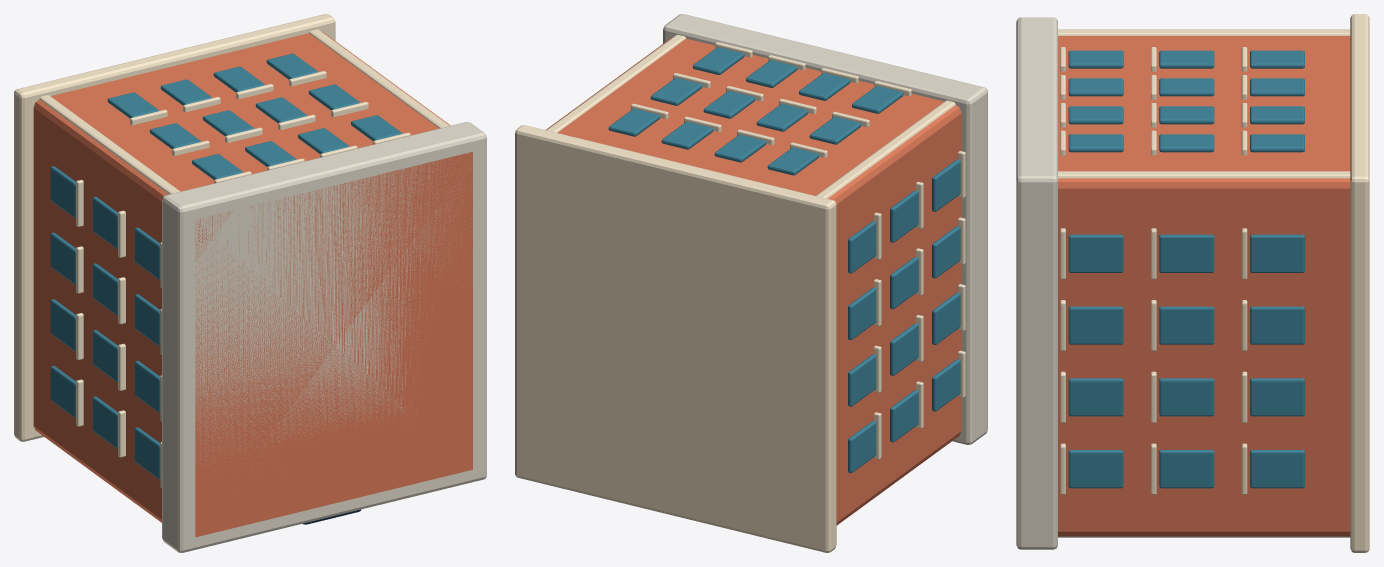
Rendered from CR_CampusBuilding_A.fbx.
3 views of the same model, side by side, from view 1: azimuth 30°, elevation 25°; view 2: azimuth 150°, elevation 25°; view 3: azimuth 270°, elevation 25° (orthographic). The views are drawn at different scales.
Visible parts, largest first — view 1: Brick_Main, Cream_Base, Cream_Cornice, Cream_Corner, Cream_Corner.001, Glass_SideWindow_-3.355_0_0, Glass_SideWindow_-3.355_0_2, Glass_SideWindow_-3.355_0_3, Glass_SideWindow_-3.355_0_1, Glass_SideWindow_-3.355_1_1, Glass_SideWindow_-3.355_2_1, Glass_SideWindow_-3.355_2_3 (+17 smaller); view 2: Cream_Cornice, Brick_Main, Cream_Base, Cream_Corner, Cream_Corner.001, Glass_SideWindow_-3.355_1_3, Glass_SideWindow_-3.355_1_1, Glass_SideWindow_-3.355_0_0, Glass_SideWindow_-3.355_0_2, Glass_SideWindow_-3.355_0_3, Glass_SideWindow_-3.355_2_1, Glass_SideWindow_-3.355_0_1 (+17 smaller); view 3: Brick_Main, Cream_Base, Cream_Cornice, Cream_Corner.001, Glass_SideWindow_3.355_0_2, Glass_SideWindow_3.355_0_1, Glass_SideWindow_3.355_1_1, Glass_SideWindow_3.355_1_2, Glass_SideWindow_3.355_0_0, Glass_SideWindow_3.355_0_3, Glass_SideWindow_3.355_1_3, Glass_SideWindow_3.355_1_0 (+17 smaller).
Boxes of the visible parts, x1,y1,x2,y2 form: Brick_Main: [33, 31, 472, 537]; Cream_Base: [162, 122, 486, 552]; Cream_Cornice: [14, 14, 335, 441]; Cream_Corner: [39, 95, 180, 194]; Cream_Corner.001: [309, 29, 449, 128]; Glass_SideWindow_-3.355_0_0: [134, 427, 160, 479]; Glass_SideWindow_-3.355_0_2: [134, 294, 160, 346]; Glass_SideWindow_-3.355_0_3: [134, 227, 160, 279]; Glass_SideWindow_-3.355_0_1: [134, 360, 160, 412]; Glass_SideWindow_-3.355_1_1: [92, 330, 117, 382]; Glass_SideWindow_-3.355_2_1: [50, 299, 75, 351]; Glass_SideWindow_-3.355_2_3: [50, 166, 75, 218]; Cream_Cornice: [515, 125, 836, 552]; Brick_Main: [546, 37, 961, 525]; Cream_Base: [663, 14, 987, 444]; Cream_Corner: [816, 100, 955, 198]; Cream_Corner.001: [546, 34, 685, 132]; Glass_SideWindow_-3.355_1_3: [890, 190, 918, 242]; Glass_SideWindow_-3.355_1_1: [890, 323, 918, 375]; Glass_SideWindow_-3.355_0_0: [932, 359, 960, 411]; Glass_SideWindow_-3.355_0_2: [932, 226, 960, 278]; Glass_SideWindow_-3.355_0_3: [932, 159, 960, 211]; Glass_SideWindow_-3.355_2_1: [848, 354, 876, 406]; Glass_SideWindow_-3.355_0_1: [932, 292, 960, 344]; Brick_Main: [1058, 36, 1350, 536]; Cream_Base: [1016, 17, 1057, 549]; Cream_Cornice: [1350, 14, 1369, 552]; Cream_Corner.001: [1058, 171, 1350, 537]; Glass_SideWindow_3.355_0_2: [1068, 306, 1123, 344]; Glass_SideWindow_3.355_0_1: [1068, 378, 1123, 416]; Glass_SideWindow_3.355_1_1: [1159, 378, 1214, 416]; Glass_SideWindow_3.355_1_2: [1159, 306, 1214, 344]; Glass_SideWindow_3.355_0_0: [1068, 450, 1123, 488]; Glass_SideWindow_3.355_0_3: [1068, 234, 1123, 272]; Glass_SideWindow_3.355_1_3: [1159, 234, 1214, 272]; Glass_SideWindow_3.355_1_0: [1159, 450, 1214, 488].
Bounding box in the file's own units: 7.15 × 7.65 × 6.43.
